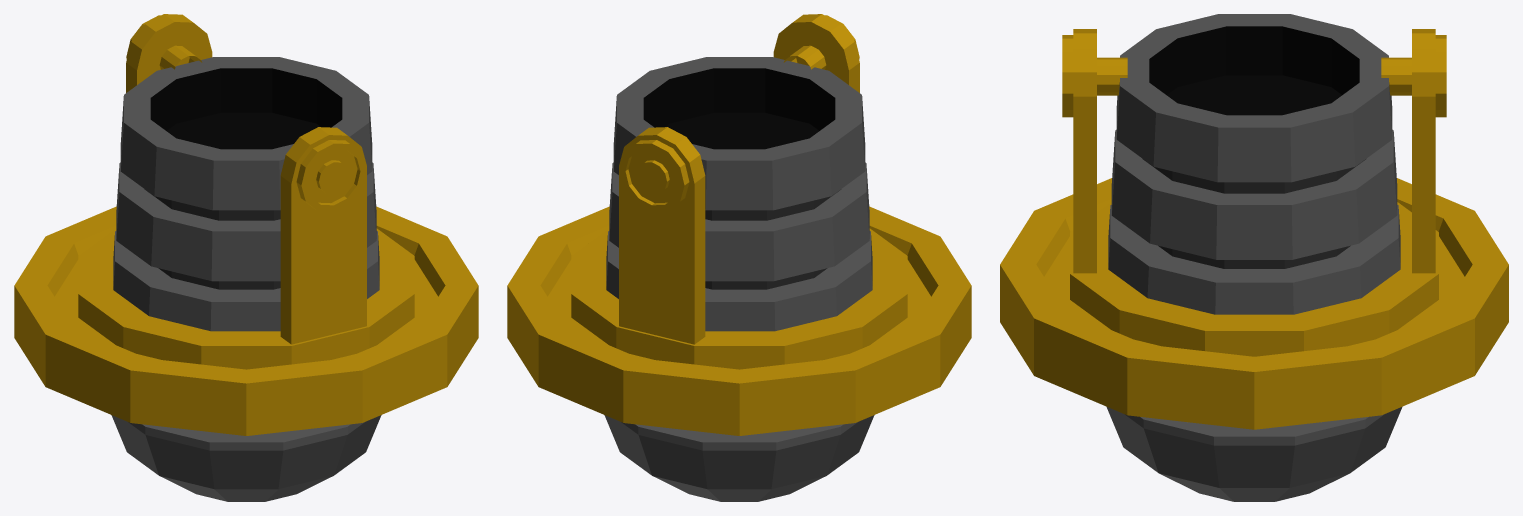
File: weapon-cannon.fbx
3 views of the same model, side by side, from view 1: azimuth 30°, elevation 25°; view 2: azimuth 150°, elevation 25°; view 3: azimuth 270°, elevation 25° (orthographic). The views are drawn at different scales.
Parts seen in each view (by area): view 1: barrel, base, swivel; view 2: barrel, base, swivel; view 3: barrel, base, swivel.
Boxes of the visible parts, x1=… form: barrel: x1=111, y1=57, x2=381, y2=501; base: x1=14, y1=206, x2=478, y2=435; swivel: x1=78, y1=14, x2=414, y2=369; barrel: x1=604, y1=57, x2=874, y2=501; base: x1=507, y1=206, x2=971, y2=435; swivel: x1=571, y1=14, x2=907, y2=369; barrel: x1=1106, y1=14, x2=1402, y2=501; base: x1=1000, y1=178, x2=1508, y2=429; swivel: x1=1062, y1=29, x2=1446, y2=356.
Bounding box in the file's own units: 800 × 781 × 800.
